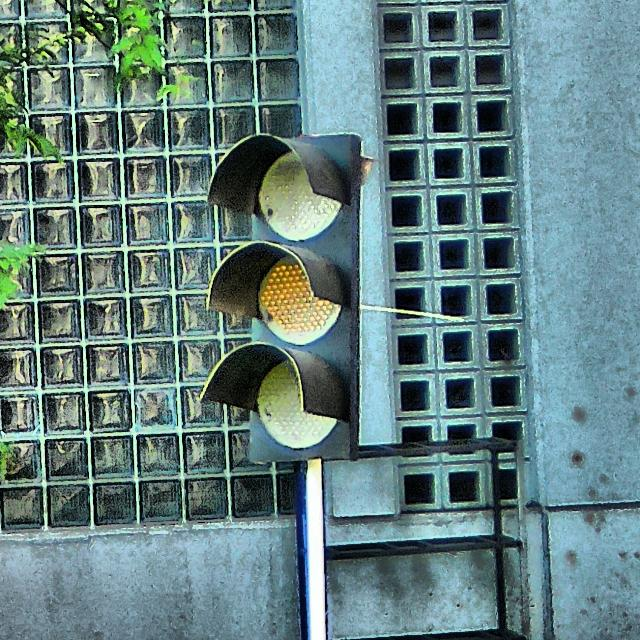yellow: (208, 132, 361, 461)
